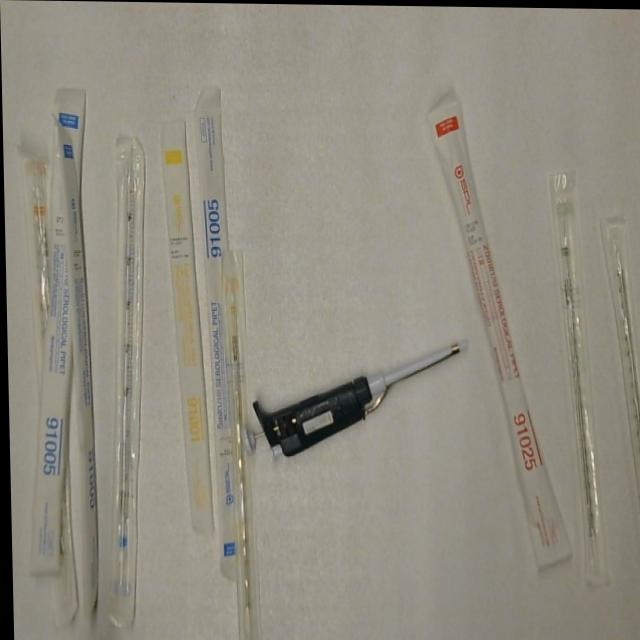Serelogical Pipet 1 mL: (158, 117, 211, 540), (219, 239, 258, 640)
Serelogical Pipet 10 mL: (19, 147, 62, 386)
Serelogical Pipet 2 mL: (547, 157, 611, 595)
Serelogical Pipet 25 mL: (422, 92, 572, 577)
Serelogical Pipet 5 mL: (16, 83, 97, 581), (93, 133, 155, 629), (192, 85, 246, 583), (52, 116, 101, 629)
Single Channel Pipettor: (234, 331, 473, 466)
